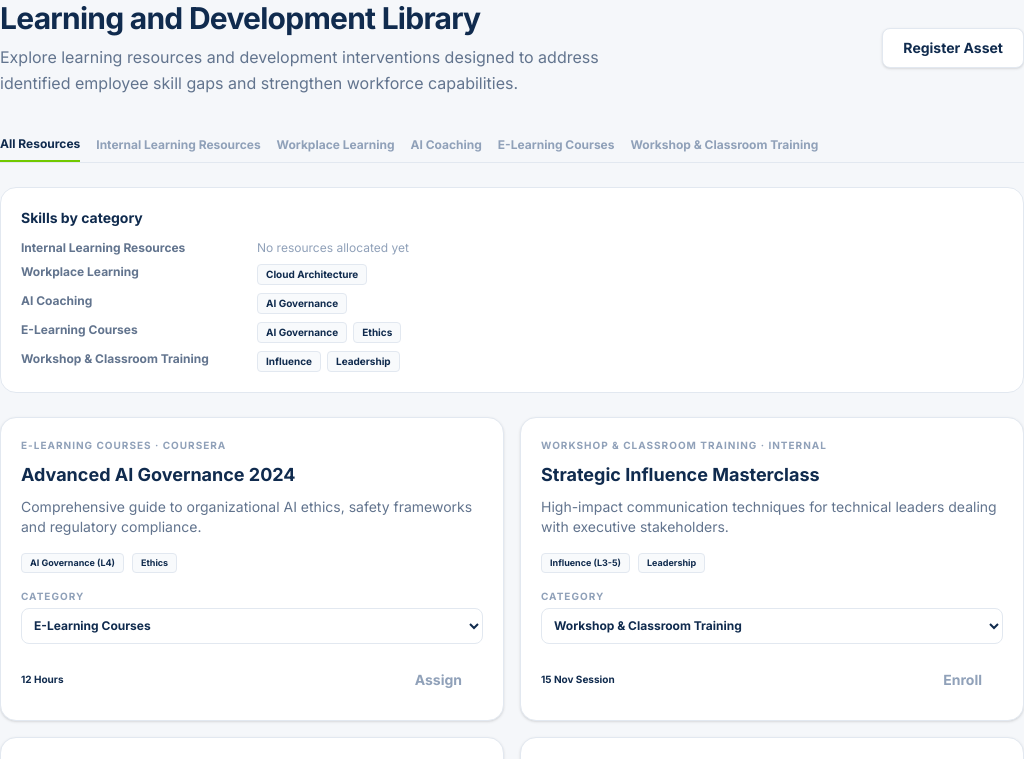
it: Learning and Development Library › lets admins move a resource to another category, updating the skills per category
The width and height of the screenshot is (1024, 759).
Click the tab "Workshop & Classroom Training". click: point(724, 149)
box: [630,136,818,162]
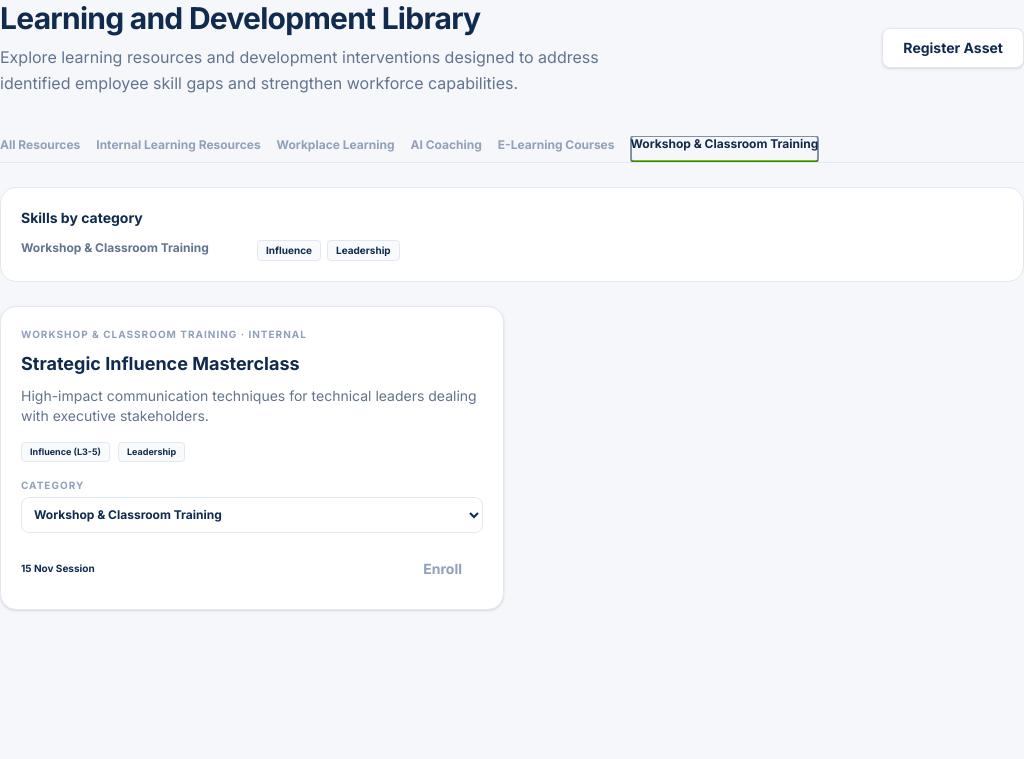
Expected: the heading "Strategic Influence Masterclass" is shown, [21,353,300,374]
Select "Internal Learning Resources" in the dropdown labelled "Category". click: point(252, 514)
box: [21,496,483,532]
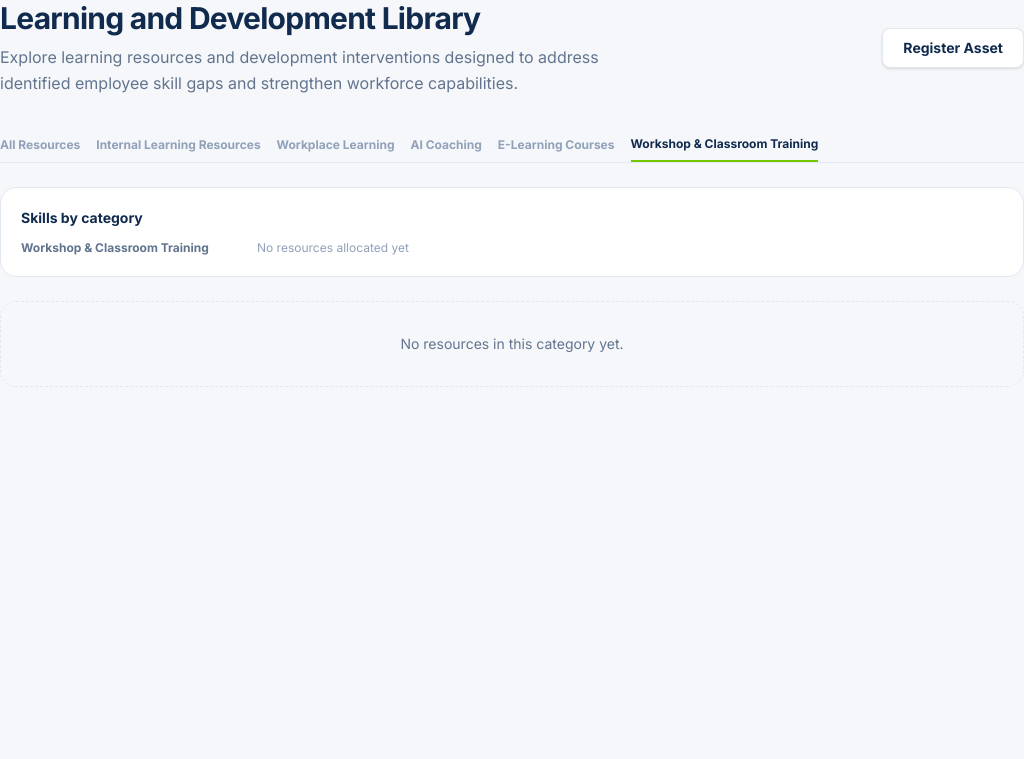
Expected: the heading "Strategic Influence Masterclass" is gone
Click the tab "Internal Learning Resources". click: point(178, 149)
box: [96,136,261,162]
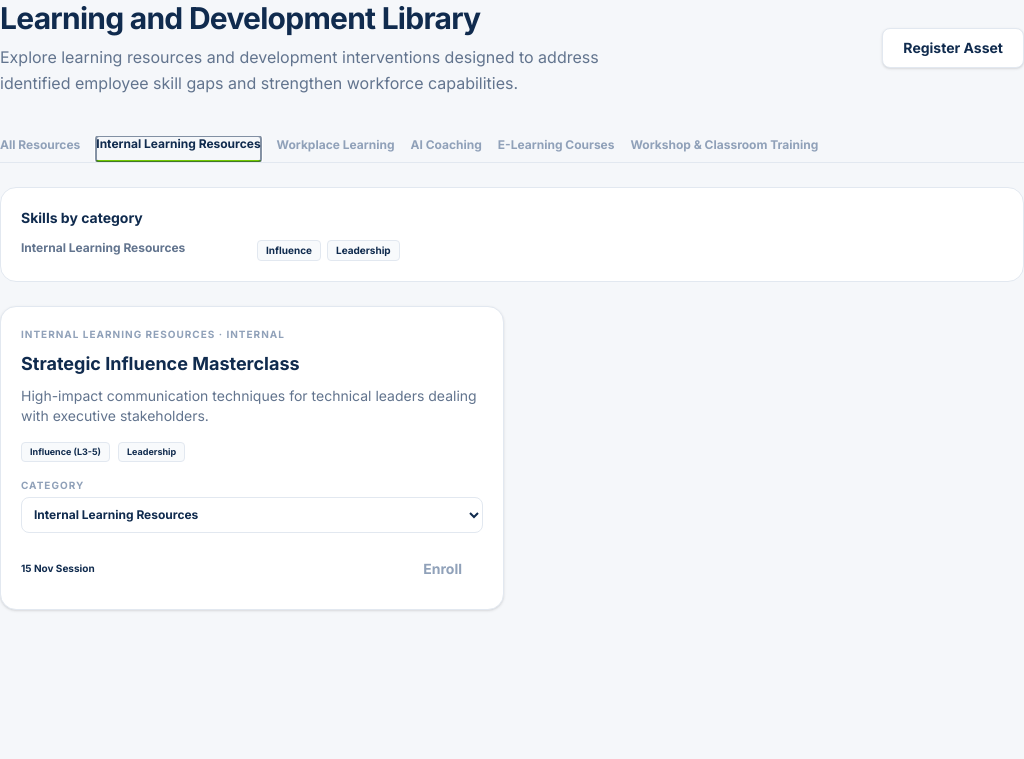
Expected: the heading "Strategic Influence Masterclass" is shown, [21,353,300,374]
Expected: the text "Influence" is shown, [257,240,321,261]
